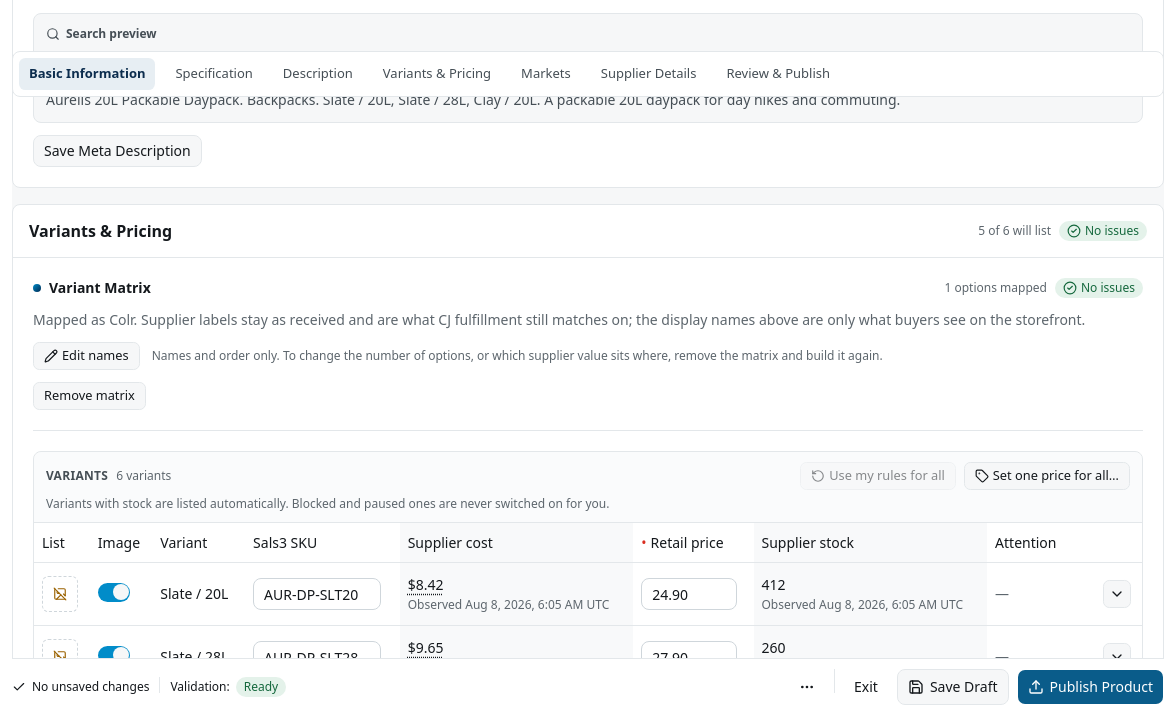
Variant Matrix - renaming a saved mapping › reports a refusal instead of pretending the rename landed
(page scrolled)
Click the button "Edit names".
click(86, 356)  # box [33, 342, 140, 370]
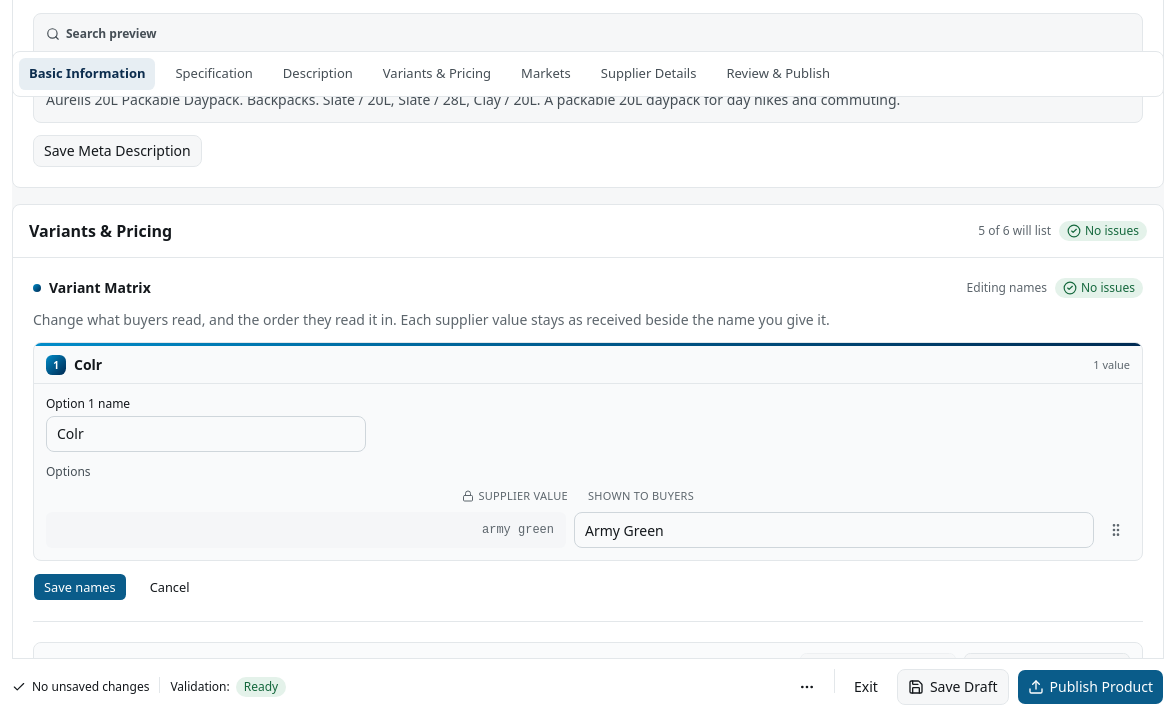
Replace the text in the field labelled "Option 1 name" with "Colour" at (206, 434), box [46, 416, 366, 452]
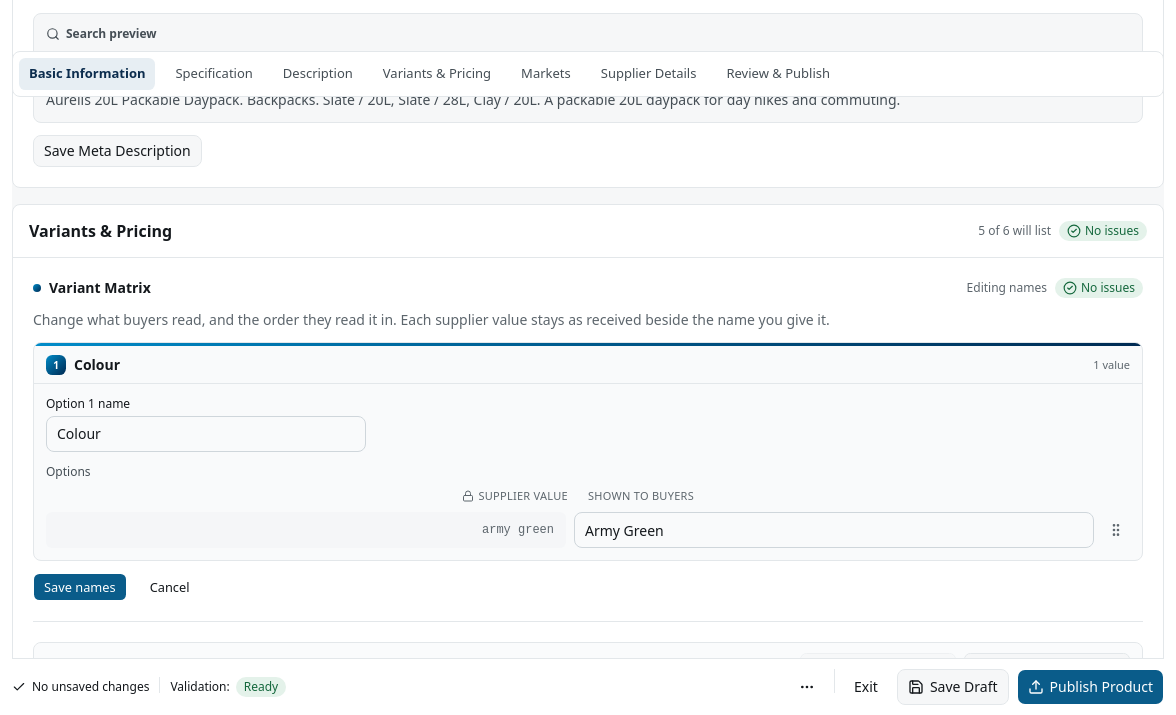
Click the button "Save names".
click(80, 587)  # box [33, 573, 127, 601]
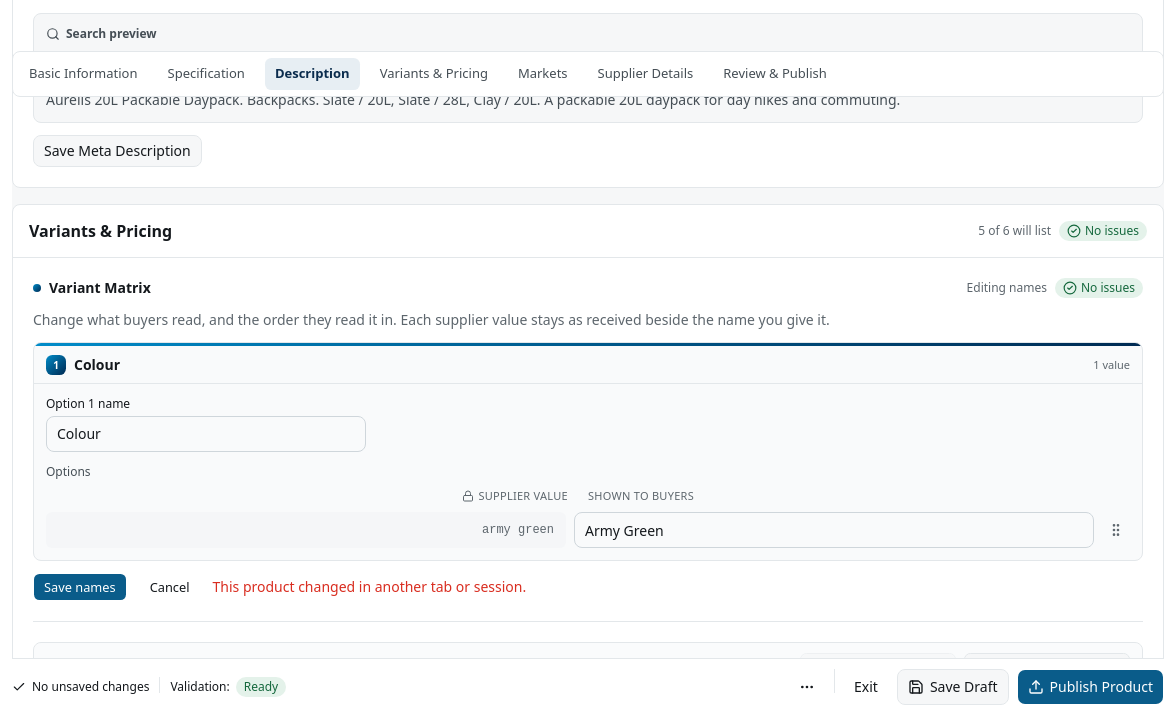
Check: the text "This product changed in another tab or session." is shown, box [212, 577, 526, 597]
